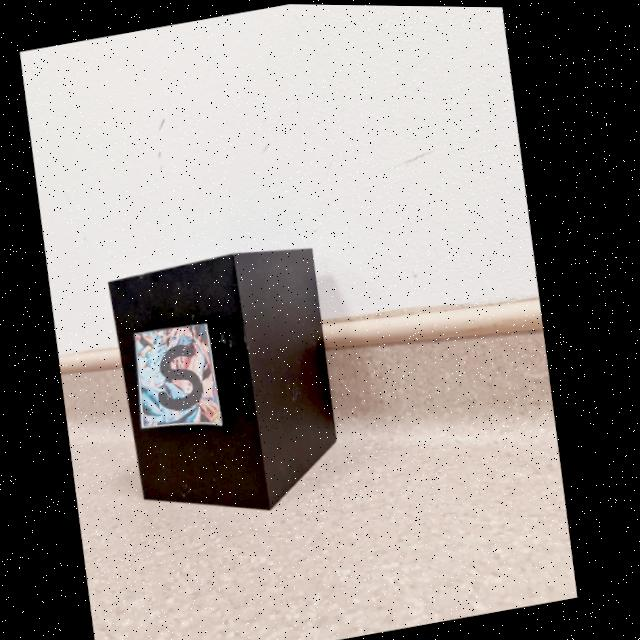S: (164, 343, 208, 410)
